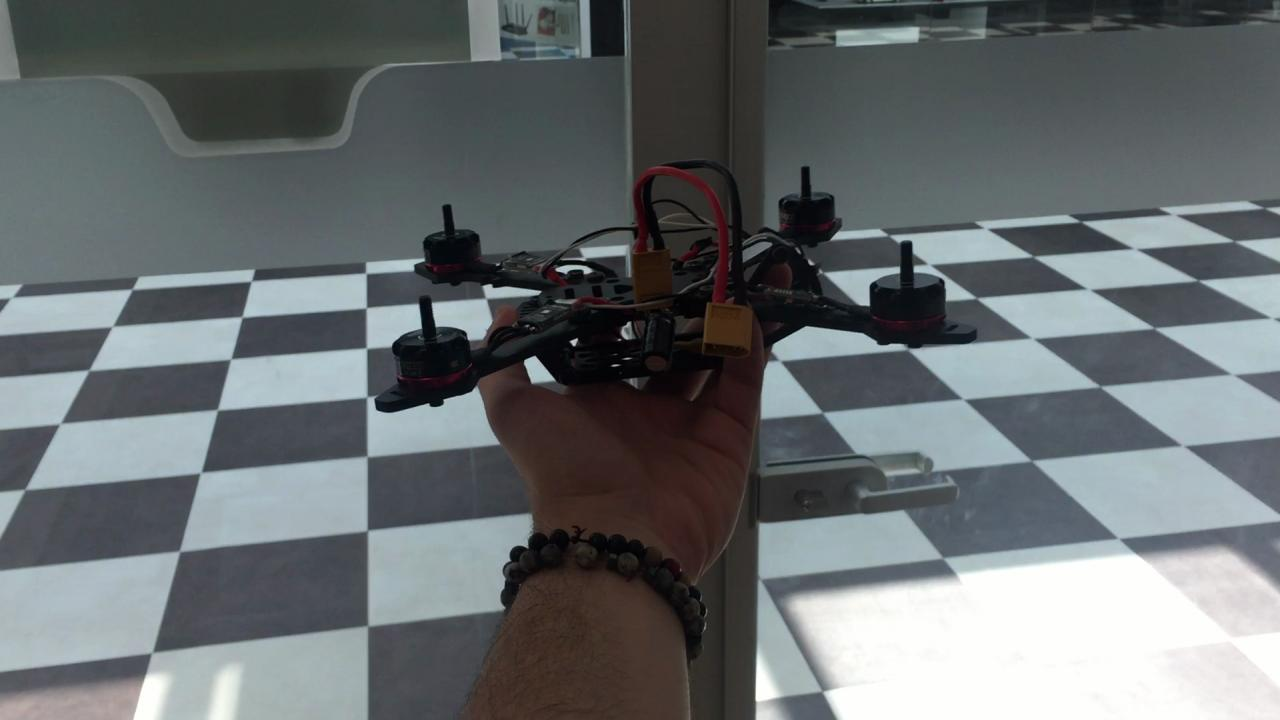Drone: (360, 144, 986, 420)
